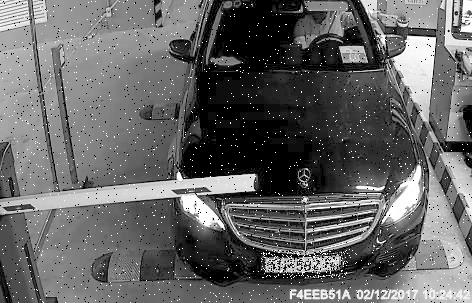License-plate: (263, 251, 349, 279)
